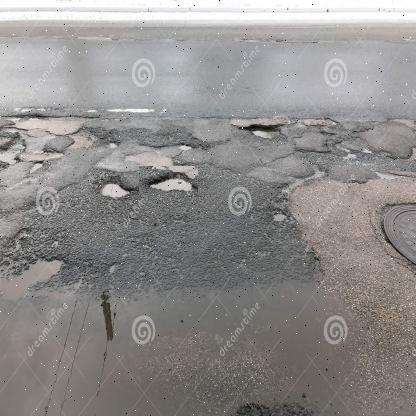pothole: (1, 92, 97, 182), (232, 110, 290, 147), (140, 166, 200, 198)
